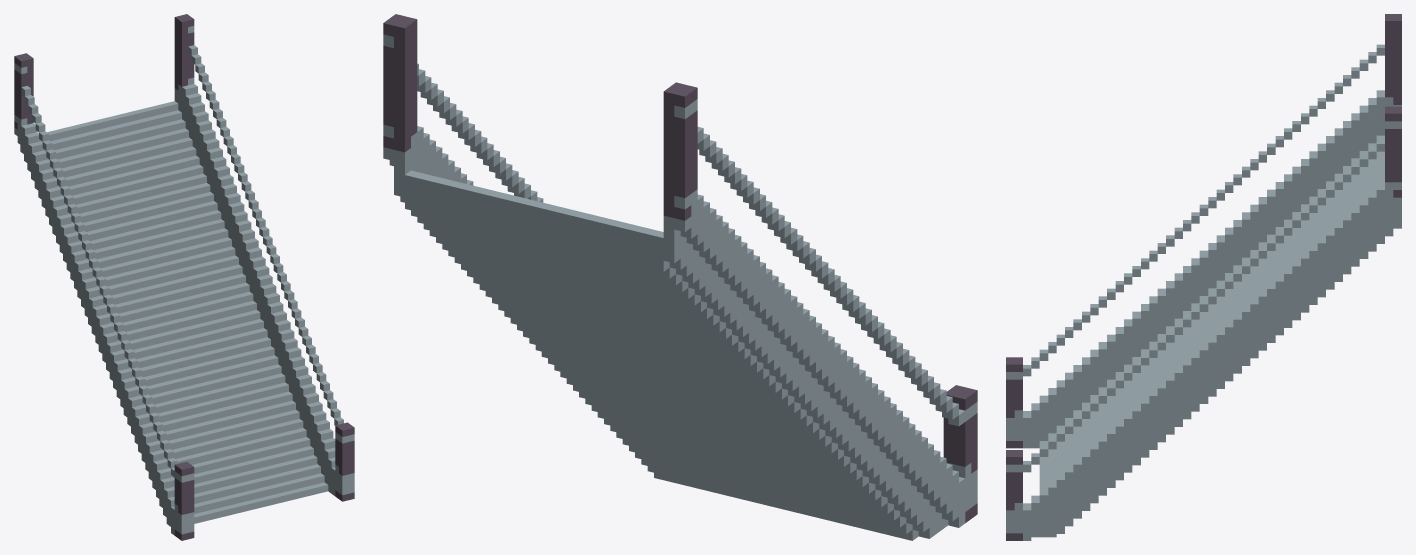
File: LabStairsRail.obj
3 renders of one model, left to right at view 1: azimuth 30°, elevation 25°; view 2: azimuth 150°, elevation 25°; view 3: azimuth 270°, elevation 25°, orthographic. The views are drawn at different scales.
Size of the model in its own units: 2.8 by 5.6 by 4.7.
Materials: 1 (1 with a texture image).
